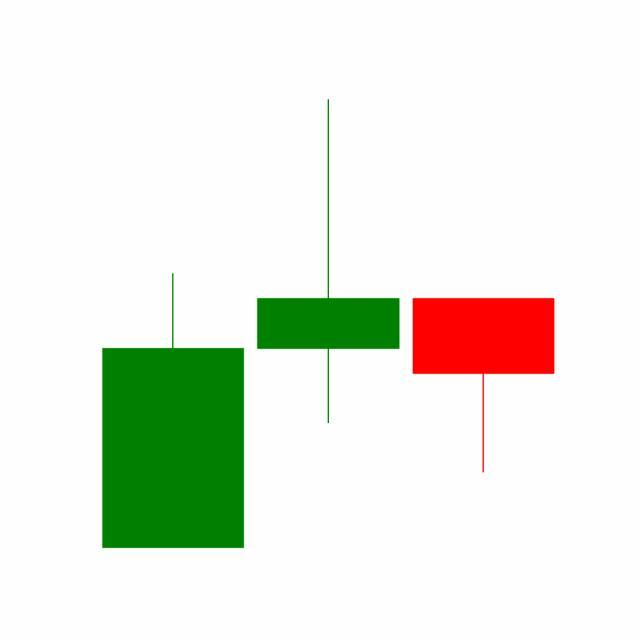Hammer: (406, 297, 562, 476)
